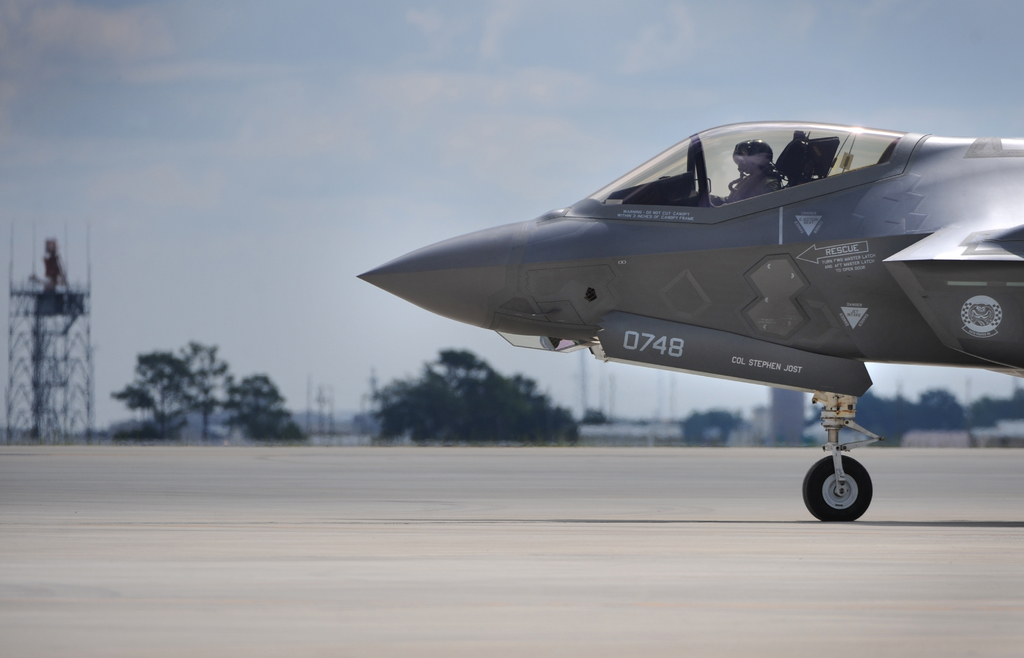Tree: (81, 334, 298, 448), (362, 347, 577, 448), (856, 387, 1023, 449)
